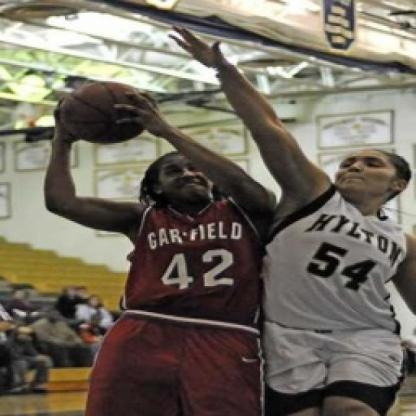basketball: (57, 76, 150, 146)
